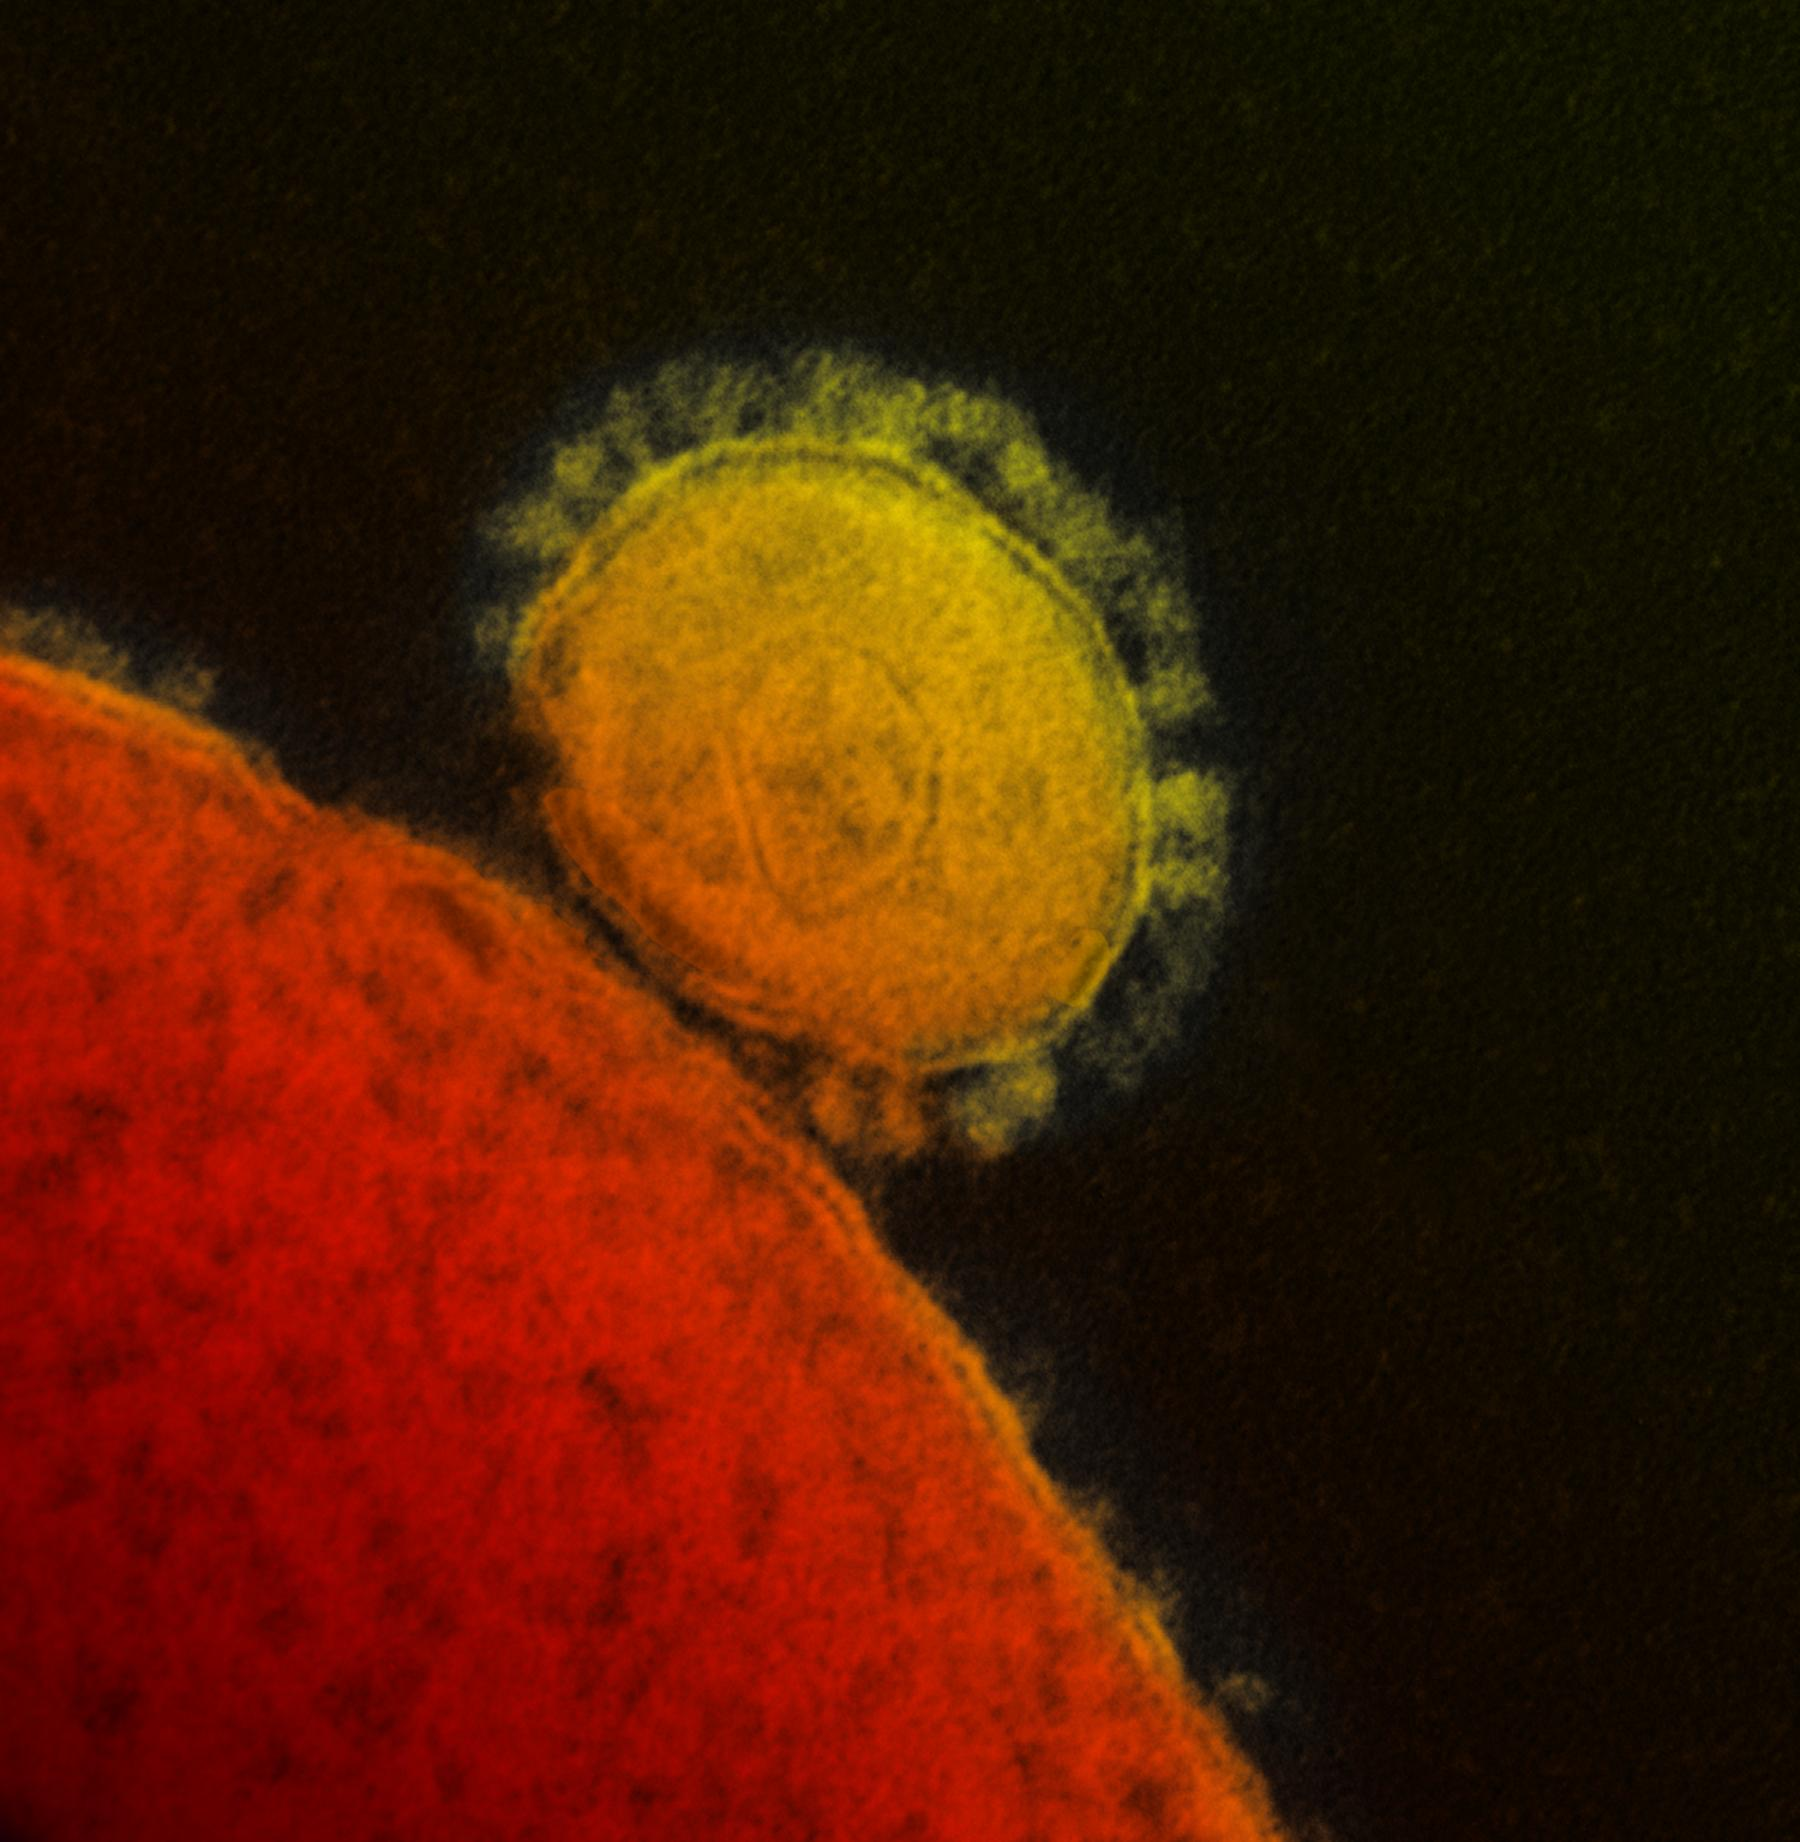COVID19: (373, 323, 1357, 1136)
